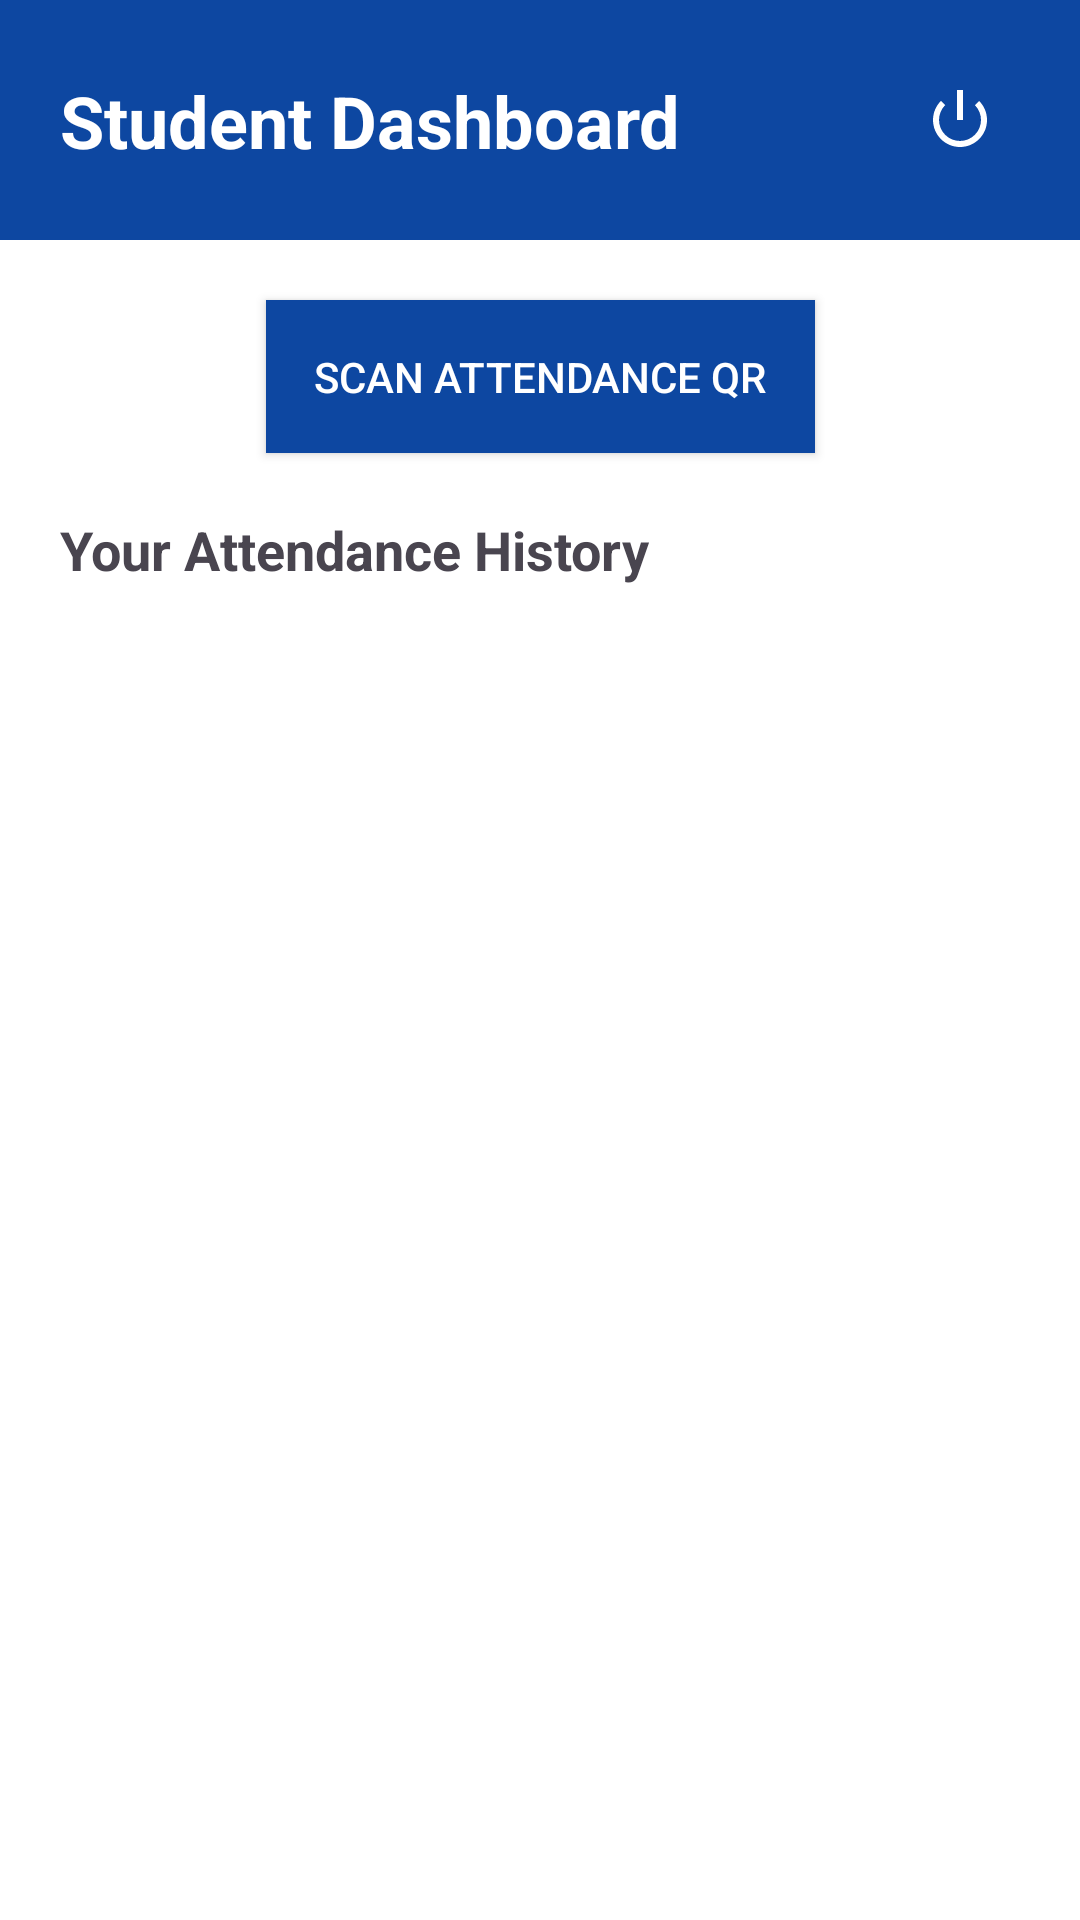

Locate icon controls on the screen. Image size 1080×1920, boxes as (x1, y1, x2, y2).
lock power off: (933, 90, 987, 147)
